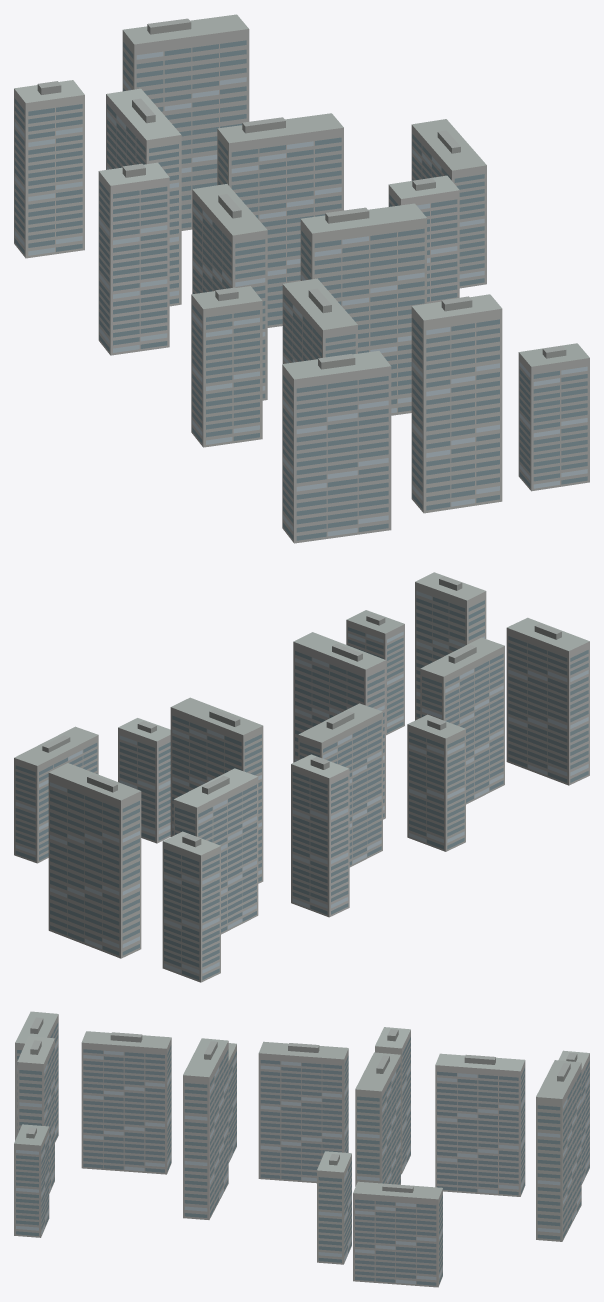
The model's file is apt-a14272306.glb.
3 renders of one model, top to bottom at view 1: azimuth 30°, elevation 25°; view 2: azimuth 150°, elevation 25°; view 3: azimuth 270°, elevation 25°, orthographic. The views are drawn at different scales.
Visible parts, largest first — view 1: apt-a14272306; view 2: apt-a14272306; view 3: apt-a14272306.
Boxes of the visible parts, box(x1,y1,x2,y2) form: apt-a14272306: box(14, 14, 589, 543); apt-a14272306: box(14, 572, 589, 982); apt-a14272306: box(14, 1011, 589, 1287).
Size of the model in its own units: 154 by 69 by 243.
